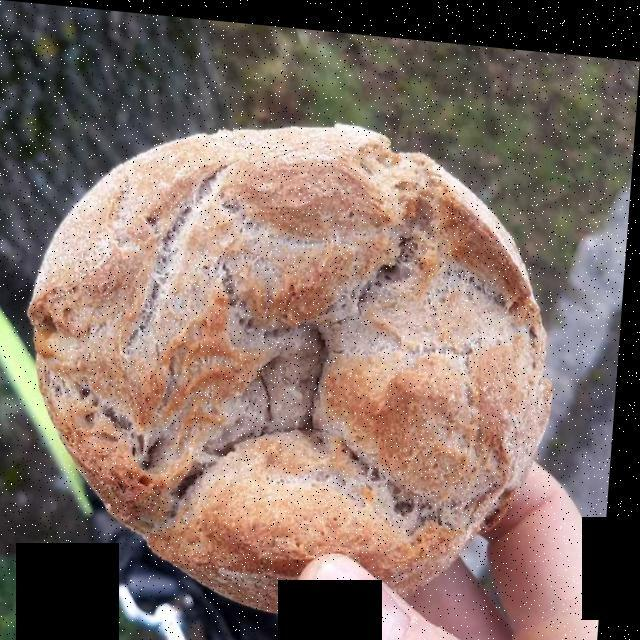bread: (49, 124, 544, 587)
